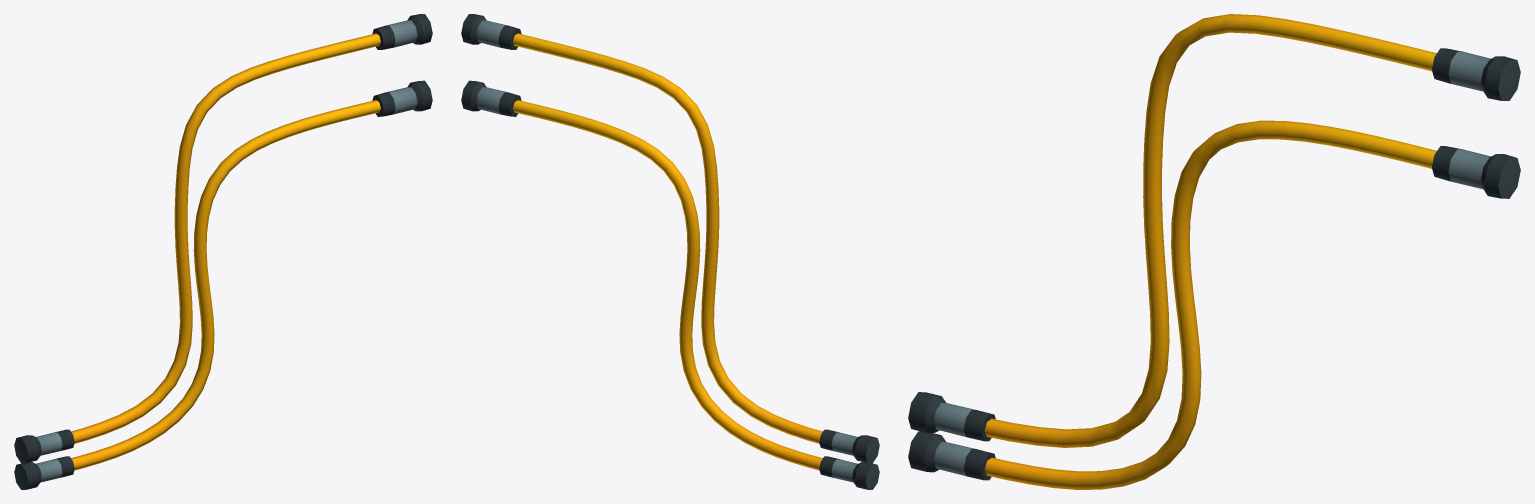
File: Cable_type_C_003.fbx
The picture shows the model from 3 angles, left to right: view 1: azimuth 30°, elevation 25°; view 2: azimuth 150°, elevation 25°; view 3: azimuth 330°, elevation 25°; orthographic projection. The views are drawn at different scales.
Visible parts, largest first — view 1: Cable_type_C_003; view 2: Cable_type_C_003; view 3: Cable_type_C_003.
Part boxes in pixels (<box>): Cable_type_C_003: <box>14,14,432,489</box>; Cable_type_C_003: <box>461,14,879,489</box>; Cable_type_C_003: <box>908,14,1520,489</box>.
Size of the model in its own units: 131 by 8.91 by 117.
